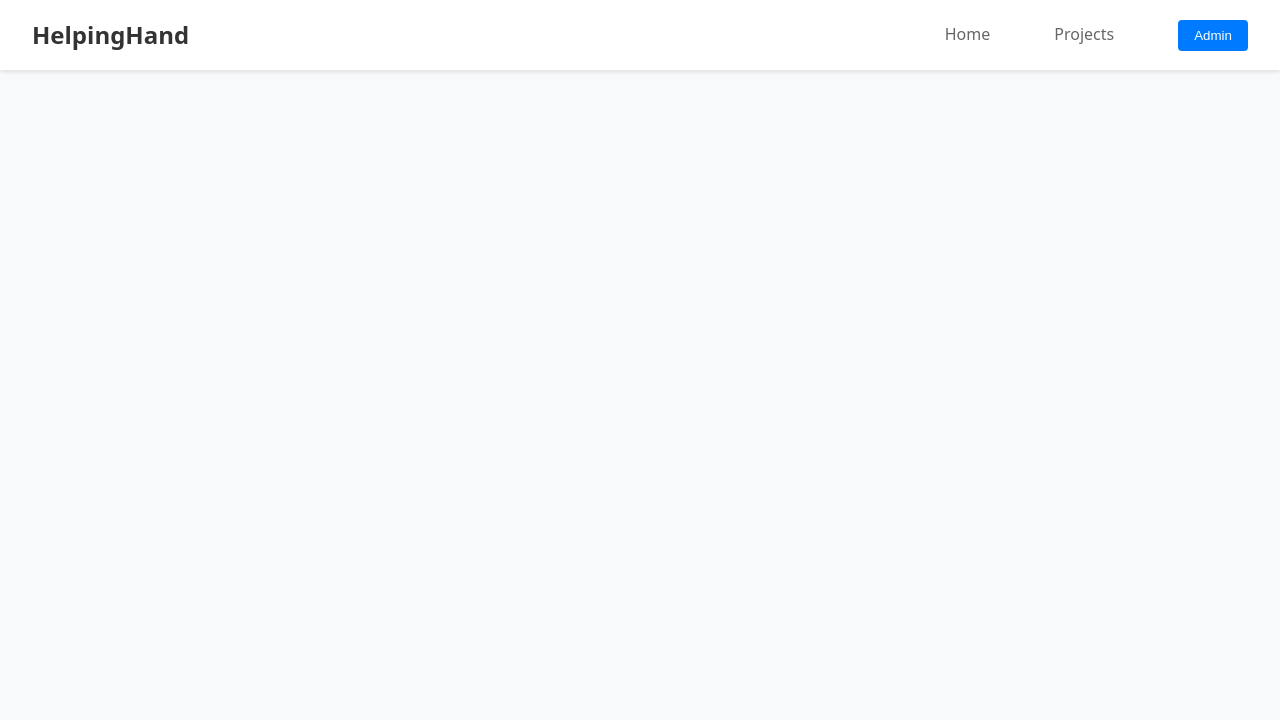
it: Navbar Component › Admin Popup › should close admin popup when close button (×) is clicked
Note: Open popup
Click the button "Admin". click: click(1213, 35)
box: [1178,20,1248,51]
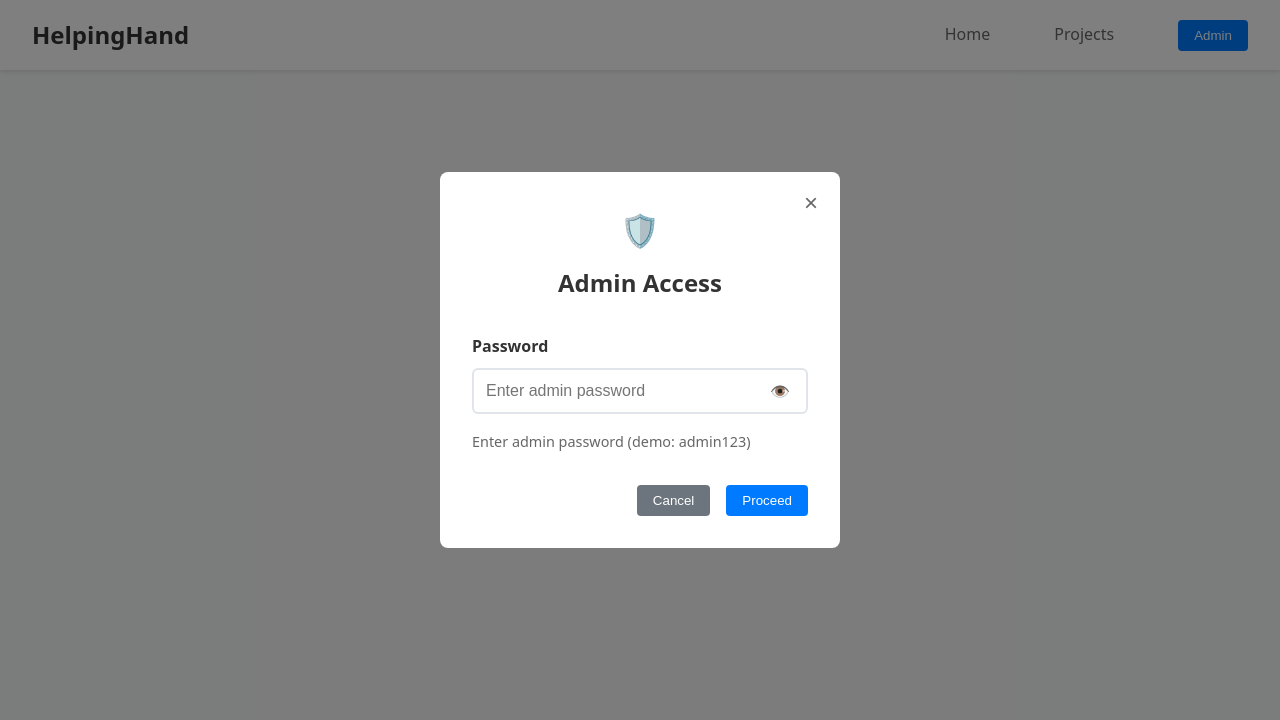
Note: Close popup
Click the button named "Close". click: click(811, 203)
box: [798,188,824,218]
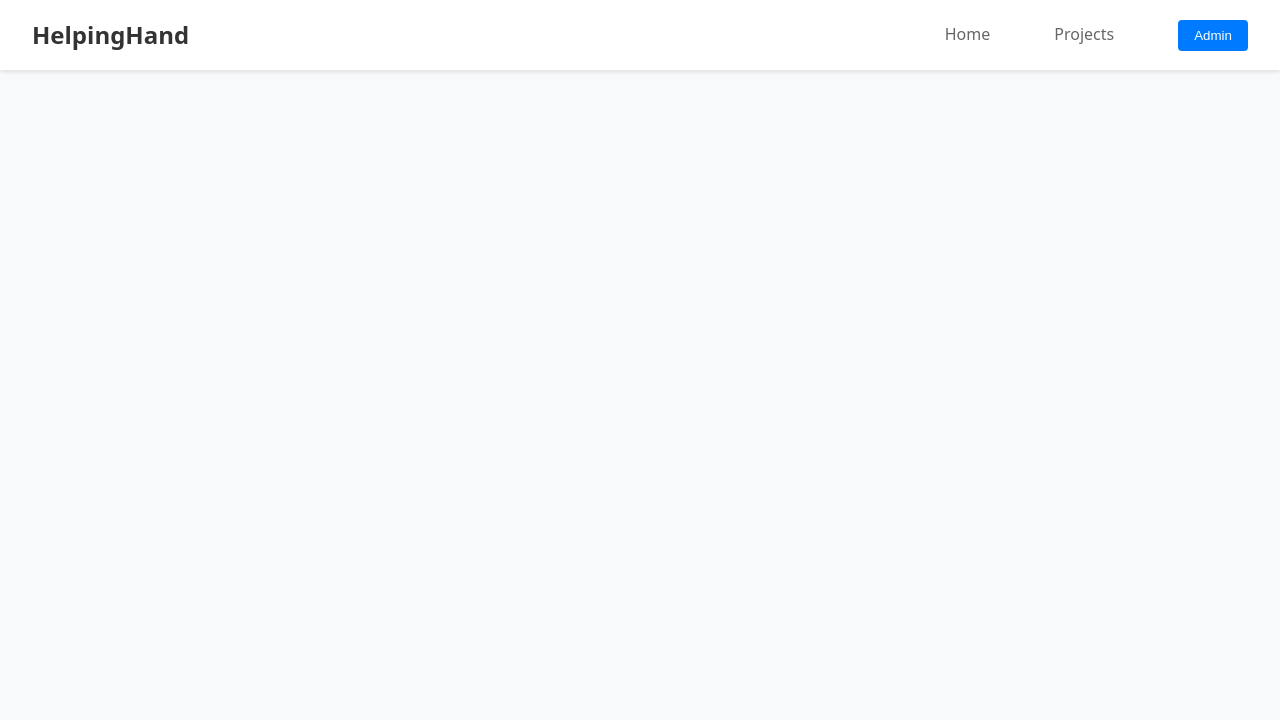
expect the text "Admin Access" is gone: met
